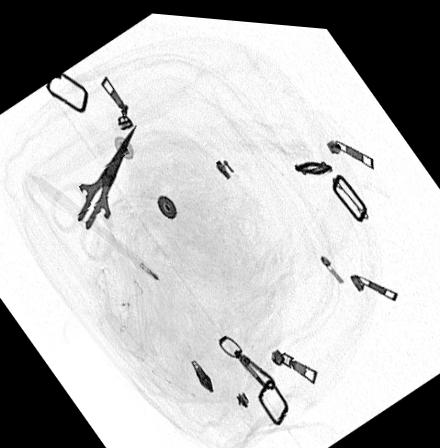Scissors: (47, 122, 137, 260)
